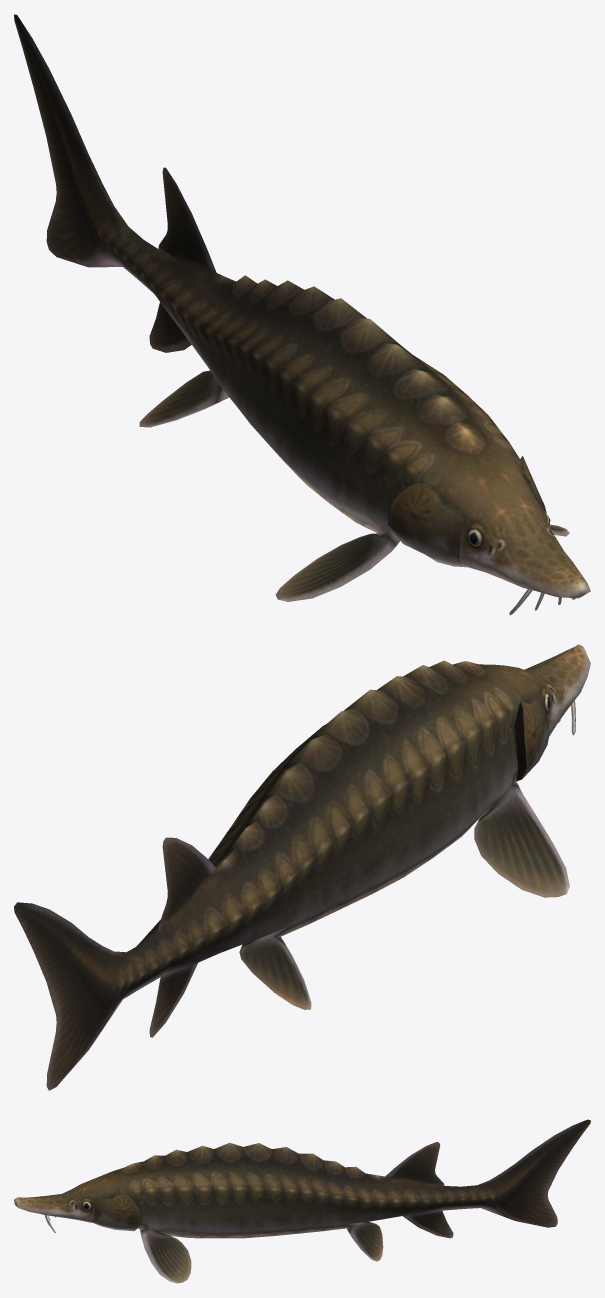
The model's file is FishTyouzame.glb.
3 renders of one model, top to bottom at view 1: azimuth 30°, elevation 25°; view 2: azimuth 150°, elevation 25°; view 3: azimuth 270°, elevation 25°, orthographic. The views are drawn at different scales.
Parts seen in each view (by area): view 1: FishTyouzame__mTyouzame; view 2: FishTyouzame__mTyouzame; view 3: FishTyouzame__mTyouzame.
Boxes of the visible parts, bbox=[...] form: FishTyouzame__mTyouzame: bbox=[14, 14, 590, 615]; FishTyouzame__mTyouzame: bbox=[14, 644, 590, 1090]; FishTyouzame__mTyouzame: bbox=[14, 1119, 590, 1283].
Bounding box in the file's own units: 6.96 × 5.83 × 23.76.
1 material, 1 textured.
